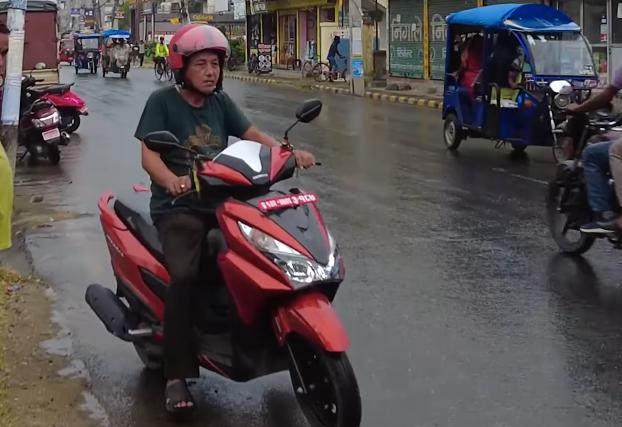bike: (535, 73, 622, 262)
e-rickshaw: (439, 0, 598, 149)
scooter: (77, 132, 390, 427), (11, 72, 72, 166)
